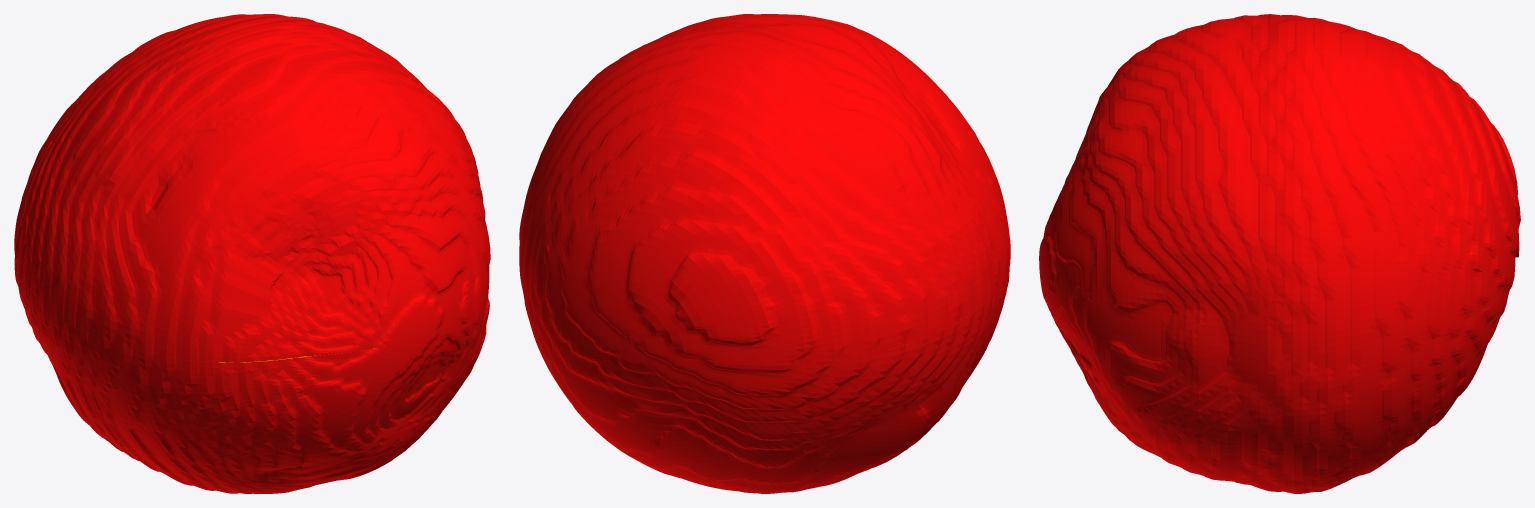
3 views of the same model, side by side, from view 1: azimuth 30°, elevation 25°; view 2: azimuth 150°, elevation 25°; view 3: azimuth 270°, elevation 25° (orthographic).
Visible parts, largest first — view 1: Renderer Node; view 2: Renderer Node; view 3: Renderer Node.
Boxes of the visible parts, box(x1,y1,x2,y2) form: Renderer Node: box(14, 14, 490, 493); Renderer Node: box(519, 14, 1010, 493); Renderer Node: box(1039, 14, 1520, 493).
Bounding box in the file's own units: 1.63e+15 × 1.61e+15 × 1.63e+15.
